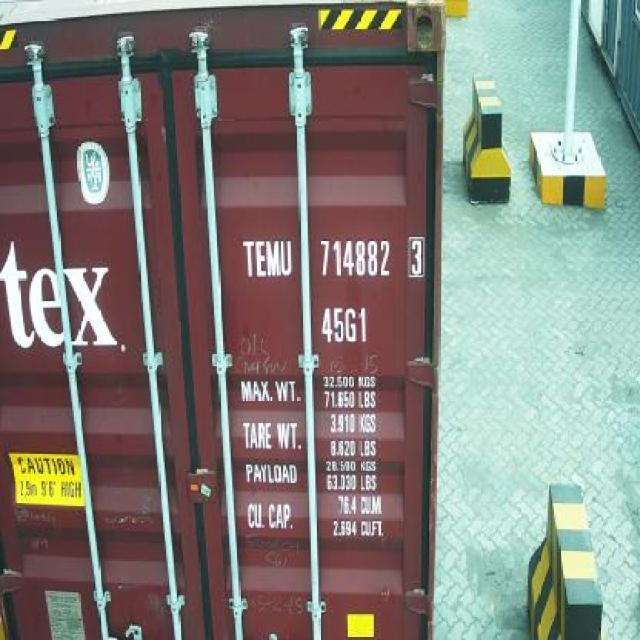ISO: (318, 304, 370, 346)
container_number: (239, 230, 434, 280)
